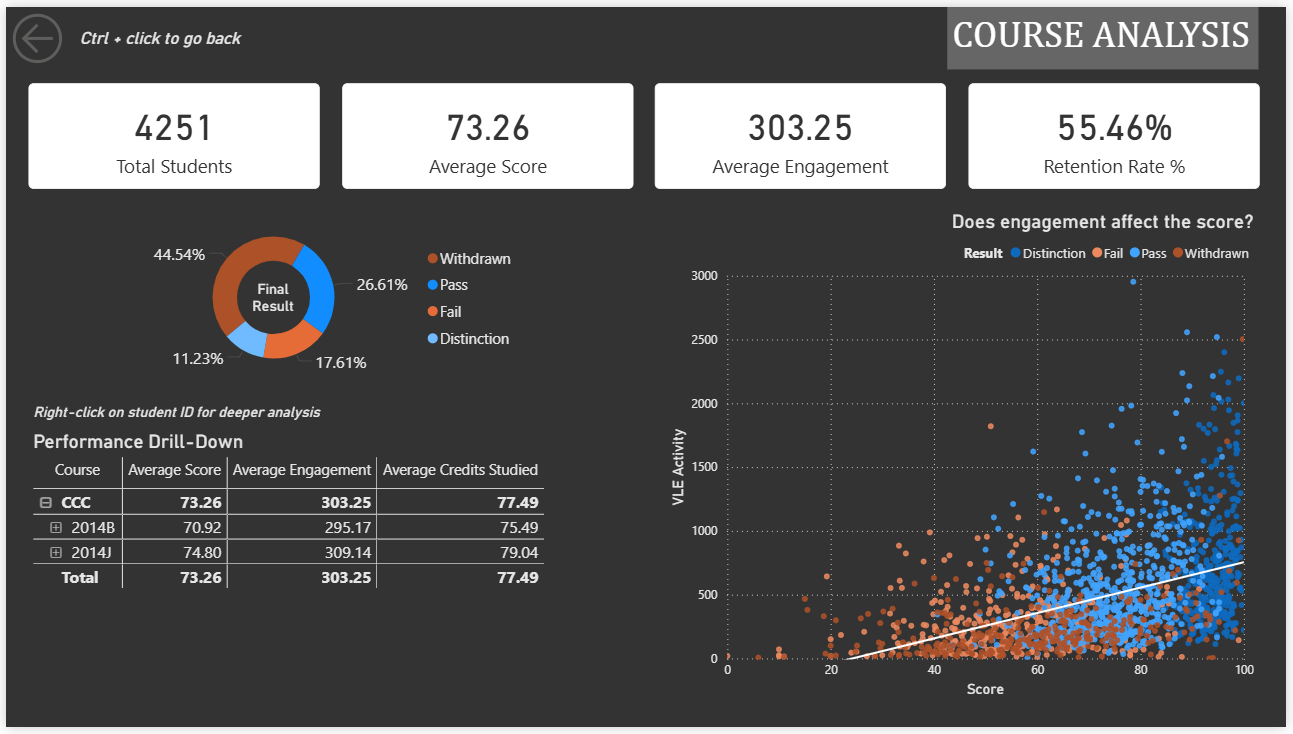

The page's visual inventory and layout, read from the dashboard file:
{"tool":"powerbi","page":{"name":"Course Analysis","canvas":[1280,720],"ordinal":1},"visuals":[{"type":"textbox","box":[941.2,0,311.2,62.5],"z":0},{"type":"card","fields":{"Values":["Count(public student_all_details.id_student)"]},"box":[22.9,75.7,291.4,105.7],"z":0,"group":"g1"},{"type":"card","fields":{"Values":["Avg(public student_score_details.score)"]},"box":[336.2,75.7,291.4,105.7],"z":1000,"group":"g1"},{"type":"scatterChart","title":"Does engagement affect the score?","fields":{"X":["Avg(public student_score_details.score)"],"Y":["public student_all_details.site_count"],"Series":["public student_all_details.final_result"]},"box":[658.6,204.3,594.3,491.4],"z":1000},{"type":"card","fields":{"Values":["Avg(public student_all_details.site_count)"]},"box":[649.6,75.7,291.4,105.7],"z":2000,"group":"g1"},{"type":"pivotTable","title":"Performance Drill-Down","fields":{"Values":["Avg(public student_score_details.score)","Avg(public student_all_details.site_count)","Avg(public student_all_details.studied_credits)"],"Rows":["public student_all_details.Course.code_module","public student_all_details.Course.code_presentation","public student_all_details.Course.id_student"]},"box":[22.9,424.3,605.7,271.4],"z":2000},{"type":"actionButton","box":[0,0,68.6,62.9],"z":3000},{"type":"card","fields":{"Values":["public student_all_details.Retention Rate %"]},"box":[962.9,75.7,291.4,105.7],"z":3000,"group":"g1"},{"type":"textbox","box":[68.6,15.7,300,31.4],"z":4000},{"type":"group","id":"g1","title":"Group 1","box":[22.9,75.7,1231.4,105.7],"z":5000},{"type":"donutChart","fields":{"Category":["public student_all_details.final_result"],"Y":["CountNonNull(public student_all_details.id_student)"]},"box":[110,206.2,409.4,168.8],"z":6000},{"type":"textbox","box":[239.2,267.5,56.7,46.2],"z":7000},{"type":"textbox","box":[23.1,391.5,313.1,33.1],"z":8000}]}

Visuals, with their boxes in screenshot pixels (x1, y1, x2, y2), scaled from the page's 1280x720 canvas onto the 1293x734 screenshot:
textbox: [951, 0, 1265, 64]
card - Count(public student_all_details.id_student): [23, 77, 317, 185]
card - Avg(public student_score_details.score): [340, 77, 634, 185]
"Does engagement affect the score?" scatterChart: [665, 208, 1266, 709]
card - Avg(public student_all_details.site_count): [656, 77, 951, 185]
"Performance Drill-Down" pivotTable: [23, 433, 635, 709]
actionButton: [0, 0, 69, 64]
card - public student_all_details.Retention Rate %: [973, 77, 1267, 185]
textbox: [69, 16, 372, 48]
"Group 1" group: [23, 77, 1267, 185]
donutChart - public student_all_details.final_result x CountNonNull(public student_all_details.id_student): [111, 210, 525, 382]
textbox: [242, 273, 299, 320]
textbox: [23, 399, 340, 433]
